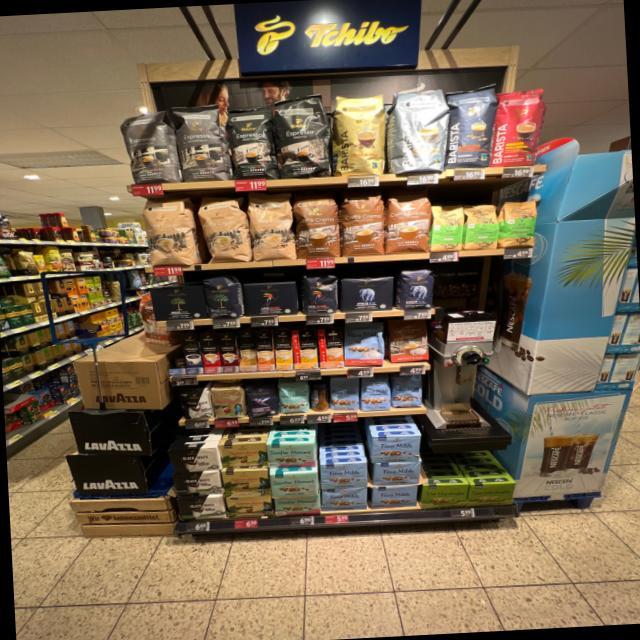AB Bohne: (396, 269, 435, 311)
AB Gemahlen: (339, 275, 395, 313)
Athiopien Bohne: (499, 199, 538, 249)
Athiopien Gemahlen: (428, 204, 465, 254), (462, 204, 500, 251)
BM Bohne: (203, 275, 244, 319)
BM Gemahlen: (149, 284, 208, 322)
BW Bohne: (175, 388, 216, 420)
BW Gemahlen: (173, 495, 229, 522), (167, 446, 221, 473), (170, 471, 224, 497)
Barista CB: (329, 91, 389, 177)
Barista CC: (385, 87, 450, 177)
Barista Espresso: (441, 84, 500, 171)
Barista Kolumbien: (486, 89, 552, 168)
C Fino Bohne: (245, 383, 281, 420)
CC Mild: (139, 195, 202, 268), (195, 194, 253, 265), (247, 190, 298, 263)
CC Vollmundig: (387, 320, 433, 365)
CC Vollmundig 36 Pads: (340, 192, 389, 257), (385, 191, 434, 256), (294, 195, 342, 261)
Colombia BB Bohne: (211, 387, 246, 419)
Colombia BB Gemahlen: (218, 442, 268, 469), (225, 494, 274, 519), (221, 469, 270, 493)
Espresso Aromatisch: (118, 108, 181, 185), (172, 105, 233, 184)
Espresso Kraftig: (269, 92, 333, 180), (222, 105, 280, 181)
FM 36 Pads: (343, 320, 388, 368)
FM Bohne: (360, 374, 392, 412), (391, 374, 425, 409), (329, 378, 361, 412)
FM Gemahlen: (320, 460, 369, 490), (370, 435, 422, 463), (372, 460, 424, 487), (369, 484, 421, 509), (321, 487, 369, 512)
FM Instant: (310, 382, 331, 411)
Herzhatfe Mundig: (422, 483, 471, 510), (468, 481, 519, 506)
LG Bohne: (299, 274, 339, 316)
LG Gemahlen: (242, 281, 299, 317)
SM Bohne: (278, 381, 311, 415)
SM Gemahlen: (270, 470, 319, 498), (266, 441, 316, 468), (273, 494, 321, 518)
Simo CCMild: (291, 328, 318, 370)
Simo CCMild bigpack: (274, 329, 294, 370)
Simo CCVollmundig: (317, 327, 344, 369)
Simo CCVollmundig bigpack: (254, 330, 275, 371)
Simo Decaff: (237, 329, 258, 372)
Simo Es Brazil: (198, 331, 221, 374)
Simo Es Caramel: (217, 332, 240, 373)
Simo Es Kraft: (180, 333, 204, 374)
